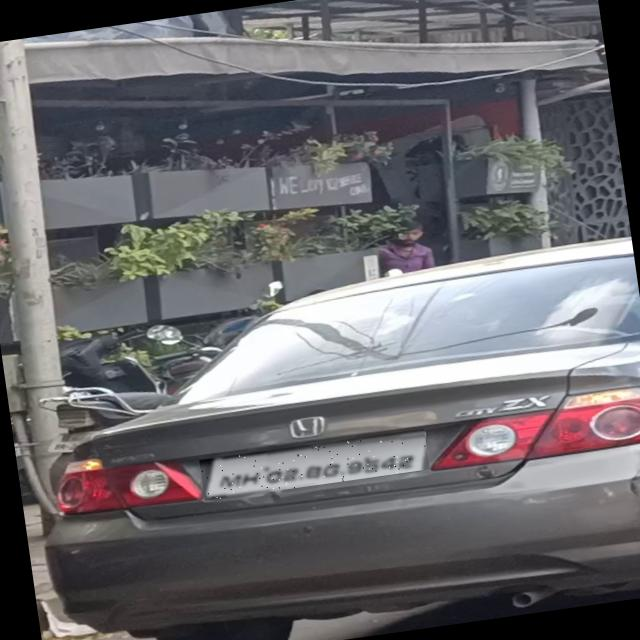Plate: (201, 430, 431, 502)
